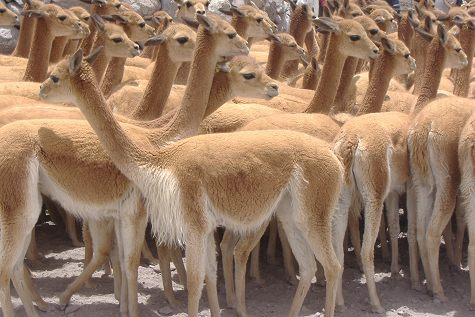eye: (174, 34, 190, 45), (49, 75, 63, 87), (242, 72, 258, 81), (111, 34, 123, 45), (60, 12, 70, 23), (350, 33, 360, 44), (369, 26, 379, 37), (229, 28, 238, 40), (135, 22, 148, 30), (288, 41, 298, 51), (257, 15, 266, 25), (353, 10, 363, 19), (184, 1, 193, 10), (81, 15, 92, 22), (114, 3, 125, 10), (205, 0, 212, 10), (0, 6, 7, 16), (390, 15, 397, 25), (454, 46, 461, 53), (404, 54, 412, 60)
mouth: (237, 38, 256, 54), (265, 86, 281, 103), (366, 50, 387, 61), (127, 47, 143, 60), (35, 89, 50, 100), (75, 26, 89, 36), (456, 60, 468, 71)
